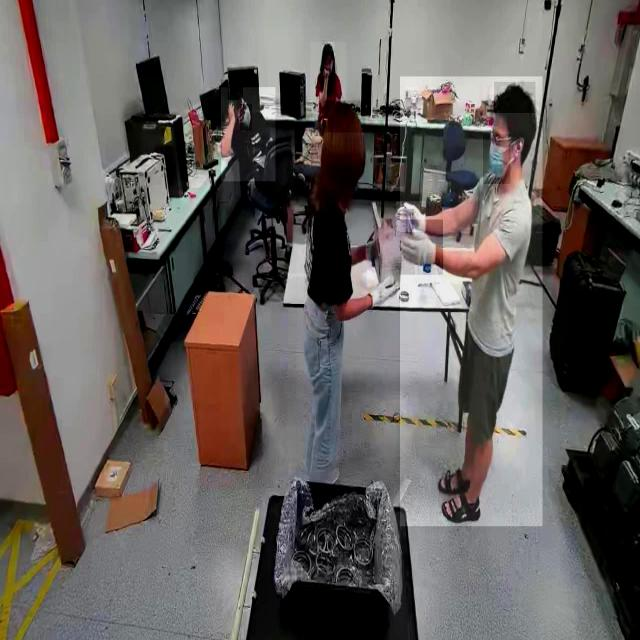face_mask: (483, 134, 511, 184), (240, 104, 252, 131)
face_nomask: (324, 58, 334, 74)
hand_glove: (399, 220, 443, 274), (367, 268, 401, 306), (396, 201, 426, 232)
hand_noglove: (228, 100, 237, 124), (323, 68, 331, 79)
head_nohelmet: (323, 100, 365, 134), (494, 82, 536, 114), (227, 87, 243, 101), (322, 42, 334, 52)
person: (400, 77, 542, 527), (297, 98, 397, 485), (220, 87, 276, 182), (310, 42, 346, 108)
